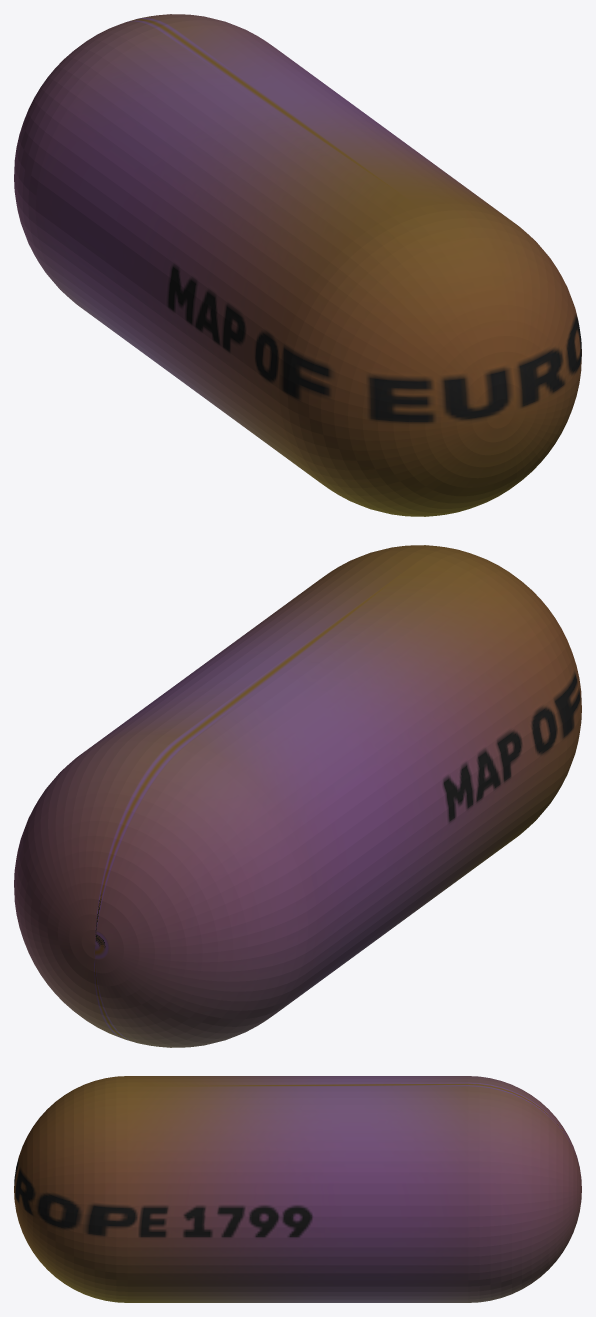
Rendered from pawn.glb.
3 renders of one model, top to bottom at view 1: azimuth 30°, elevation 25°; view 2: azimuth 150°, elevation 25°; view 3: azimuth 270°, elevation 25°, orthographic. The views are drawn at different scales.
Parts seen in each view (by area): view 1: geometry_0; view 2: geometry_0; view 3: geometry_0.
Part boxes in pixels (bbox=[...]): geometry_0: bbox=[14, 14, 581, 516]; geometry_0: bbox=[14, 545, 581, 1047]; geometry_0: bbox=[14, 1076, 581, 1302].
Bounding box in the file's own units: 1 × 1 × 2.5.
Materials: 1 (1 with a texture image).
